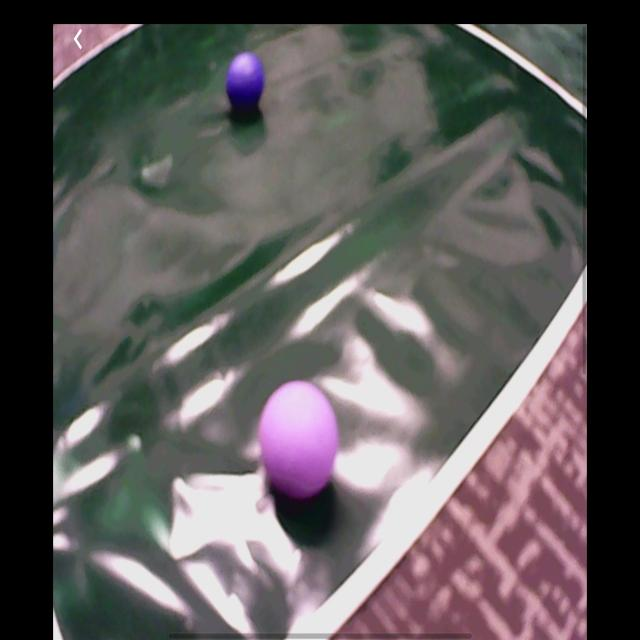ball: (261, 381, 340, 505), (227, 49, 265, 108)
